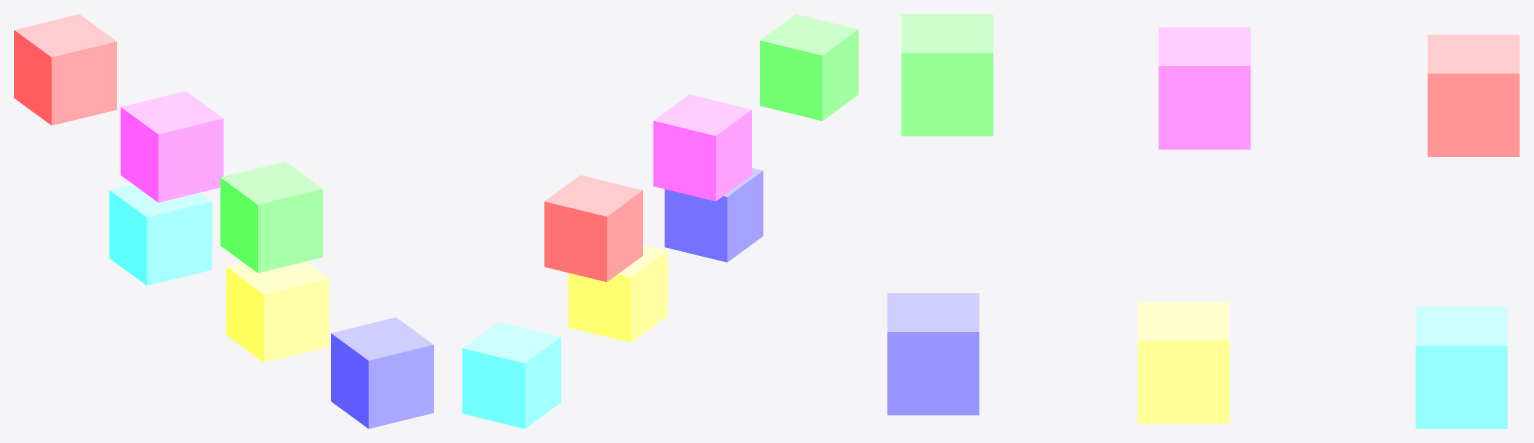
3 views of the same model, side by side, from view 1: azimuth 30°, elevation 25°; view 2: azimuth 150°, elevation 25°; view 3: azimuth 270°, elevation 25° (orthographic). The views are drawn at different scales.
Visible parts, largest first — view 1: Cube.004, Cube, Cube.003, Cube.005, Cube.001, Cube.002; view 2: Cube.004, Cube.002, Cube.003, Cube.005, Cube.001, Cube; view 3: Cube.004, Cube, Cube.001, Cube.002, Cube.003, Cube.005.
Part boxes in pixels (x1,y1,x2,y2): Cube.004: (120,91,223,202); Cube: (331,317,433,428); Cube.003: (14,14,116,125); Cube.005: (220,161,322,272); Cube.001: (226,261,329,362); Cube.002: (109,184,212,285); Cube.004: (653,94,751,201); Cube.002: (462,322,560,428); Cube.003: (544,175,642,281); Cube.005: (760,14,858,120); Cube.001: (568,245,667,342); Cube: (664,168,763,262); Cube.004: (1158,27,1250,149); Cube: (887,293,979,415); Cube.001: (1137,301,1229,423); Cube.002: (1415,306,1507,428); Cube.003: (1427,34,1519,156); Cube.005: (901,14,993,136).
Size of the model in its own units: 5.22 by 7.6 by 13.75.
